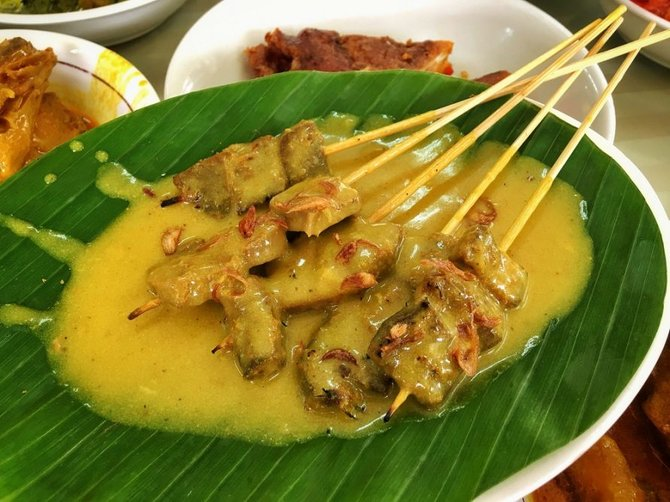sate: (156, 98, 619, 477)
